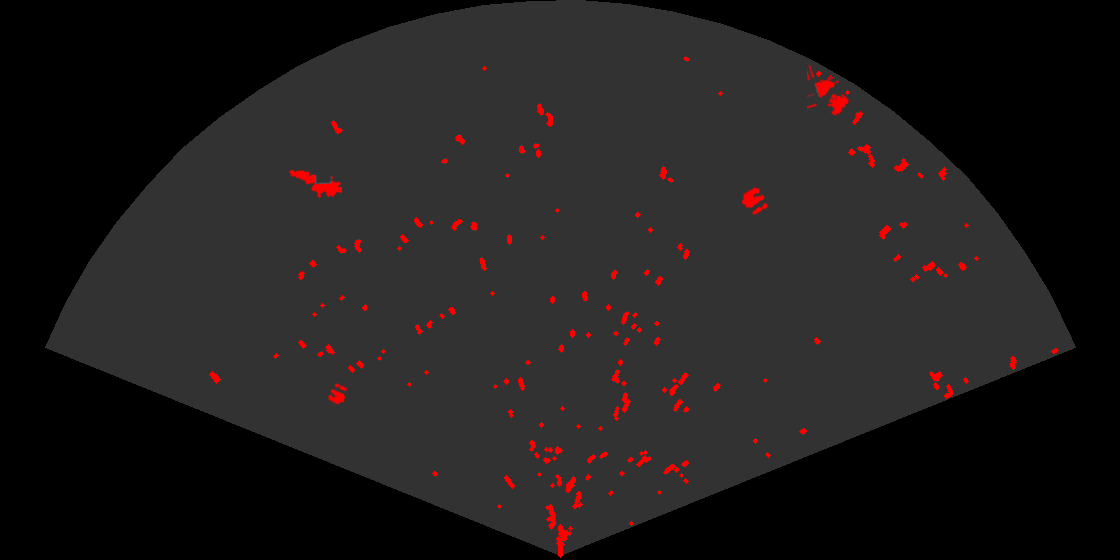ball: (740, 186, 769, 216), (326, 381, 349, 406)
cage: (807, 65, 851, 117)
frogman: (287, 168, 342, 200)
